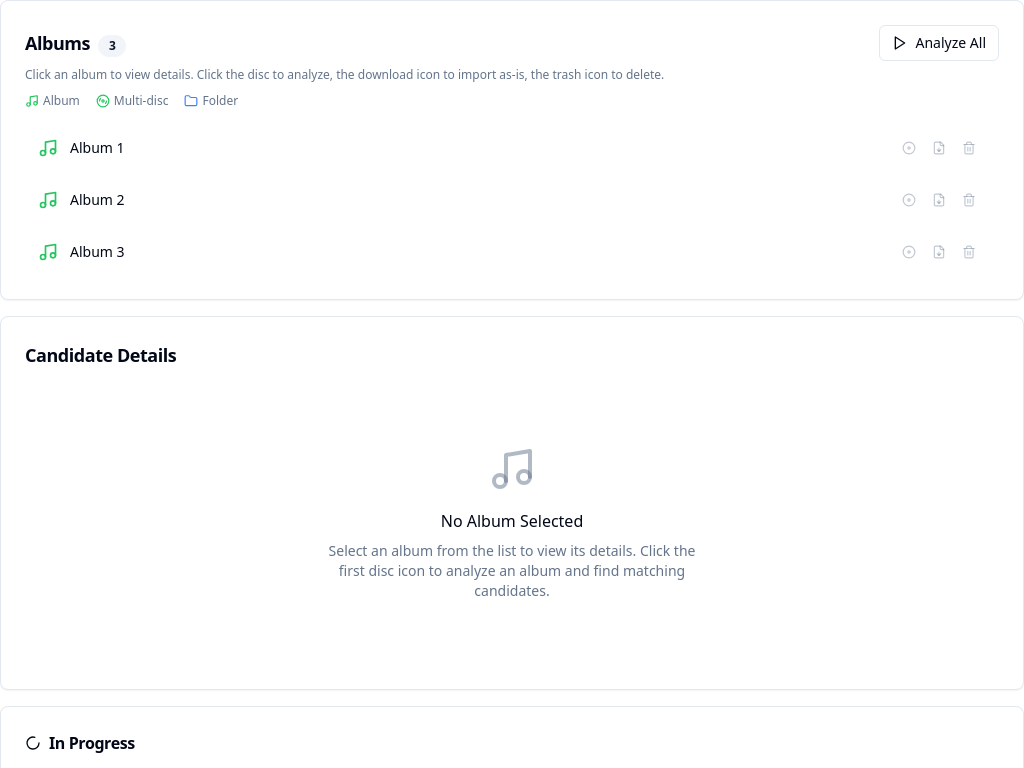
Test: BeetsImportPanel › Analysis Trigger Flow › should show analysis error in details card
The width and height of the screenshot is (1024, 768).
Expected: the text "Album 1" is shown, [70, 138, 125, 157]
Step 1. Click the 1st button named "Analyze album" → (909, 148), box [900, 139, 918, 157]
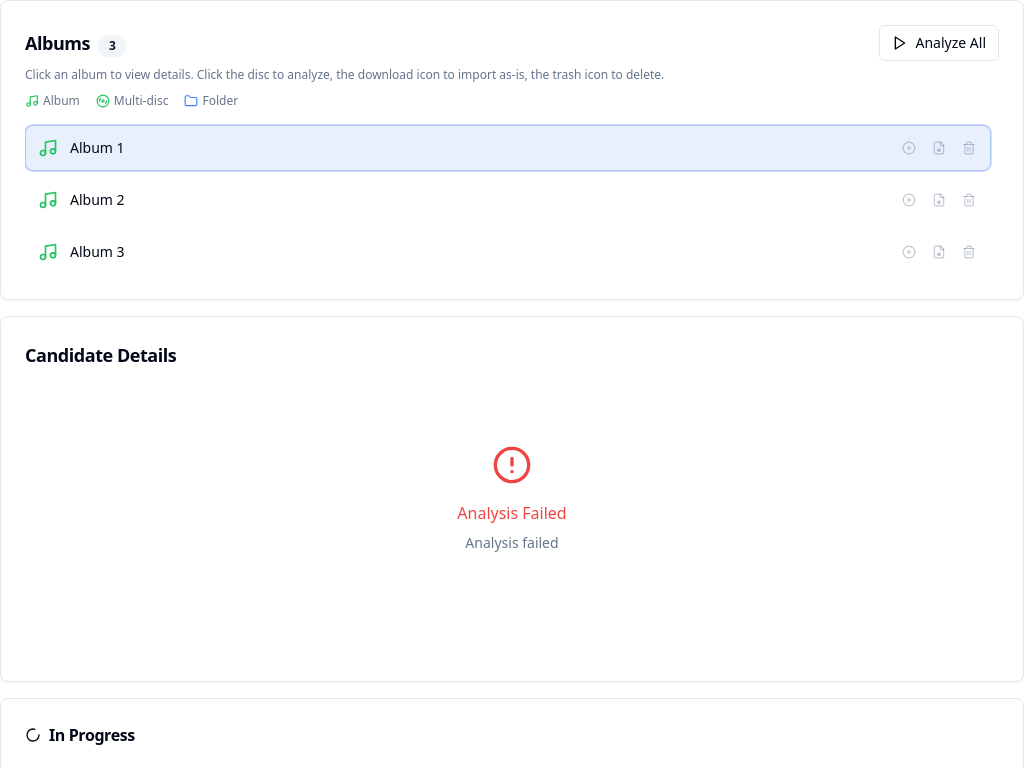
Now the heading "Analysis Failed" is shown, box [457, 501, 567, 525]
Now the text "Analysis failed" is shown, box [465, 533, 559, 553]
